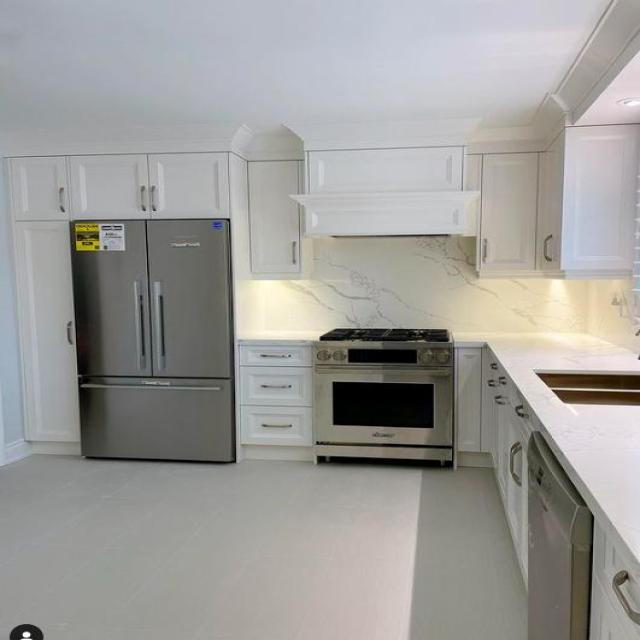dishwasher: (524, 435, 590, 639)
